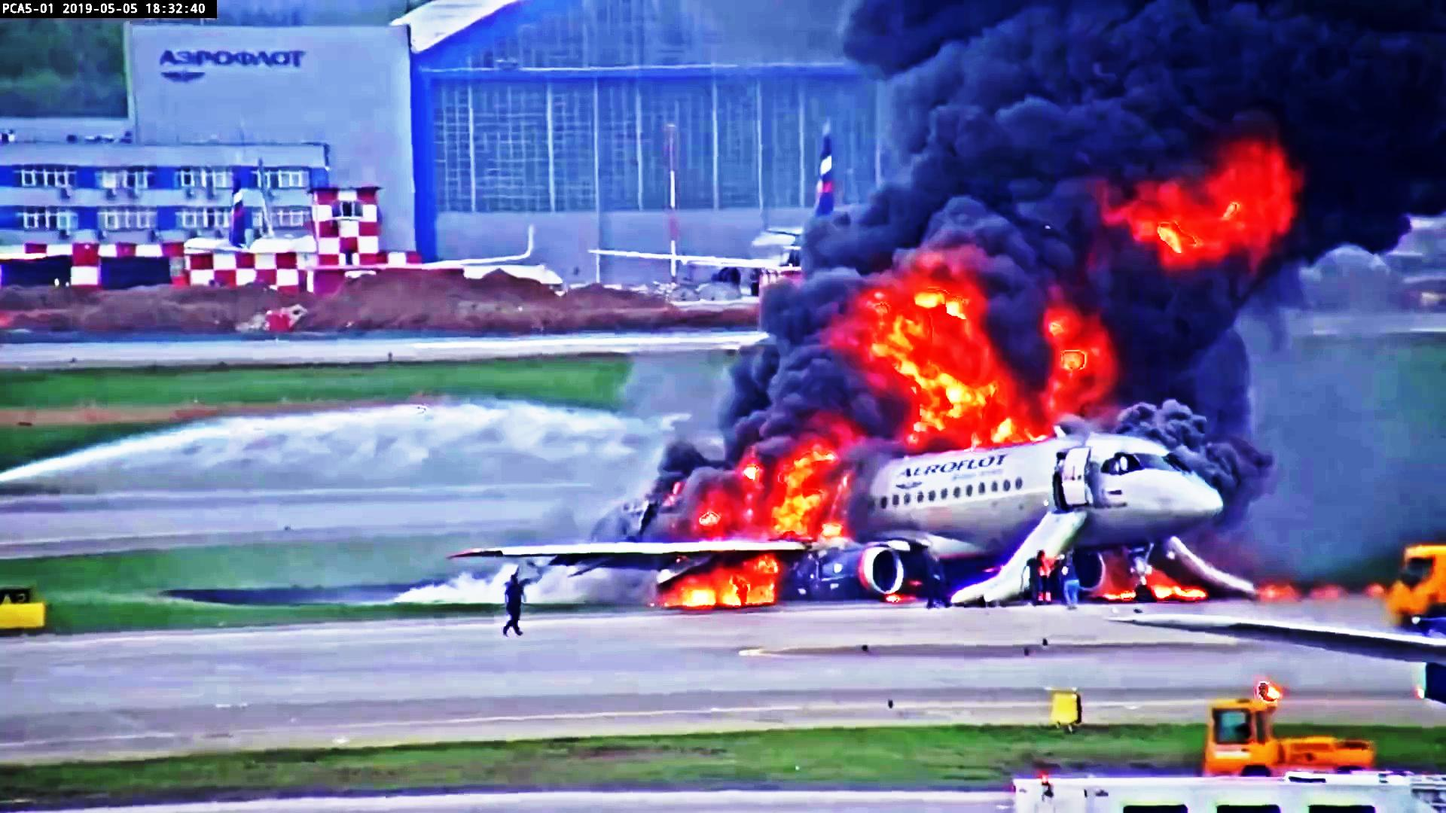fire: (891, 294, 981, 429), (1168, 172, 1287, 251), (763, 466, 810, 533), (697, 574, 775, 601)
smoke: (959, 0, 1446, 162)
